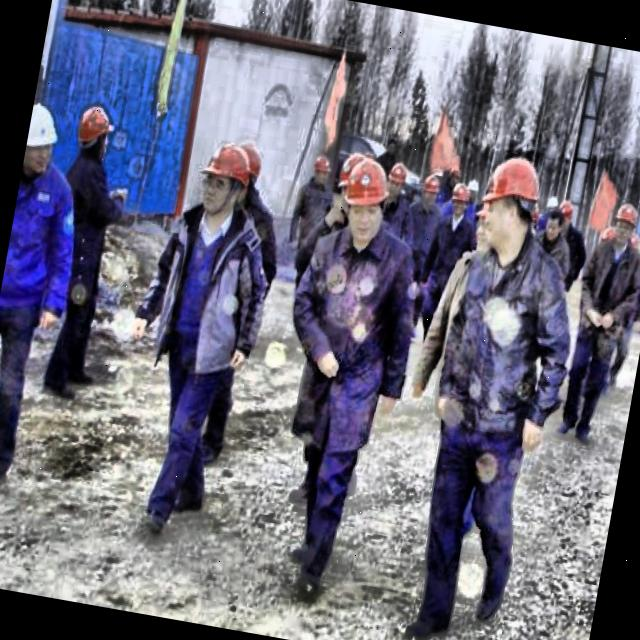helmet: (472, 146, 552, 262), (332, 150, 394, 242), (198, 136, 264, 220), (22, 101, 65, 180), (70, 100, 116, 169), (609, 195, 640, 247), (446, 178, 473, 220), (307, 150, 335, 187), (384, 160, 408, 201), (418, 172, 442, 212)
